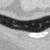node: (29, 31, 48, 39)
